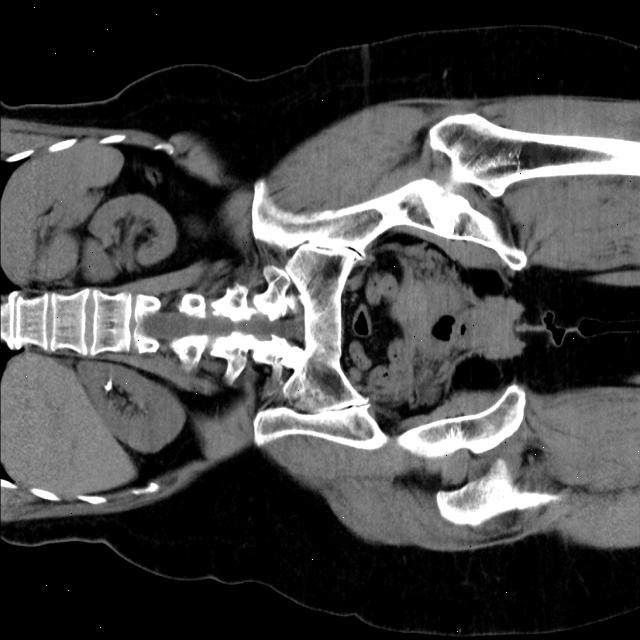kidneystone: (104, 378, 112, 391)
